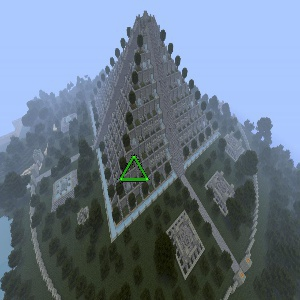triangle: (116, 153, 153, 184)
